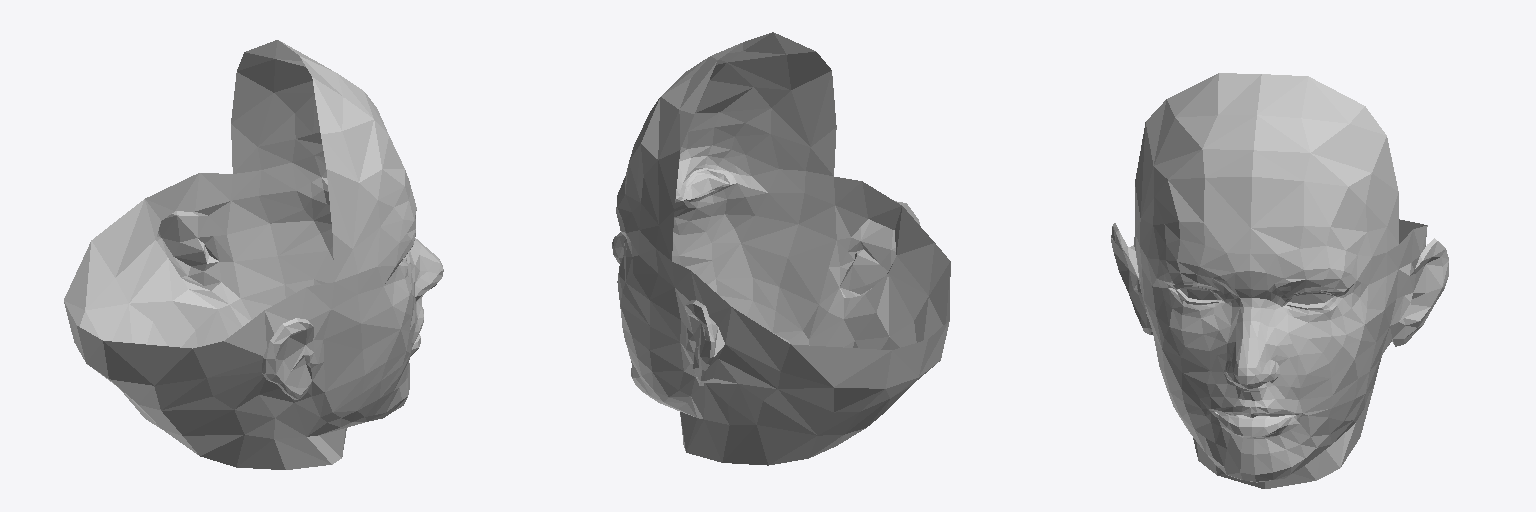
The model's file is housesp_032.obj.
3 renders of one model, left to right at view 1: azimuth 30°, elevation 25°; view 2: azimuth 150°, elevation 25°; view 3: azimuth 270°, elevation 25°, orthographic.
Bounding box in the file's own units: 18.45 × 20.63 × 15.94.